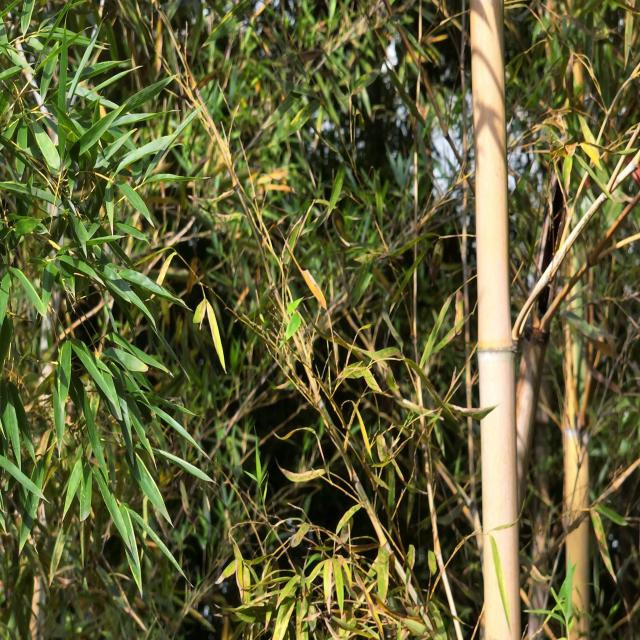Bamboo-shoots: (471, 0, 522, 640)
